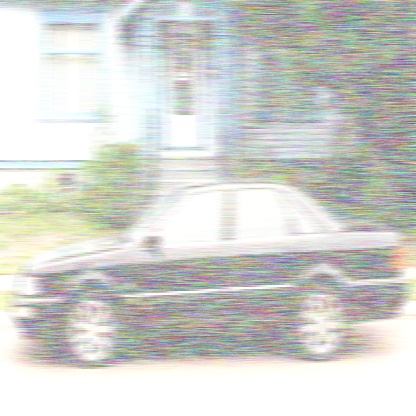Vehicle: (9, 190, 407, 366)
